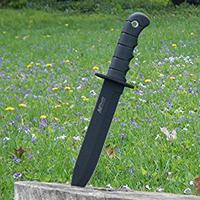knife: (67, 11, 152, 188)
